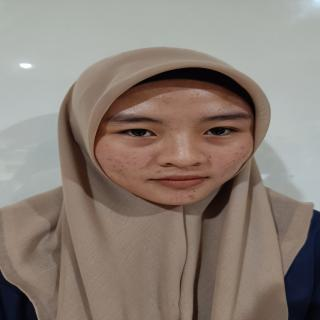Netral: (88, 69, 264, 212)
